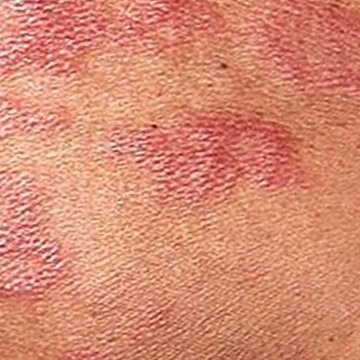Leprosy: (96, 110, 310, 196), (0, 0, 187, 79), (0, 164, 73, 309), (0, 90, 75, 143)
